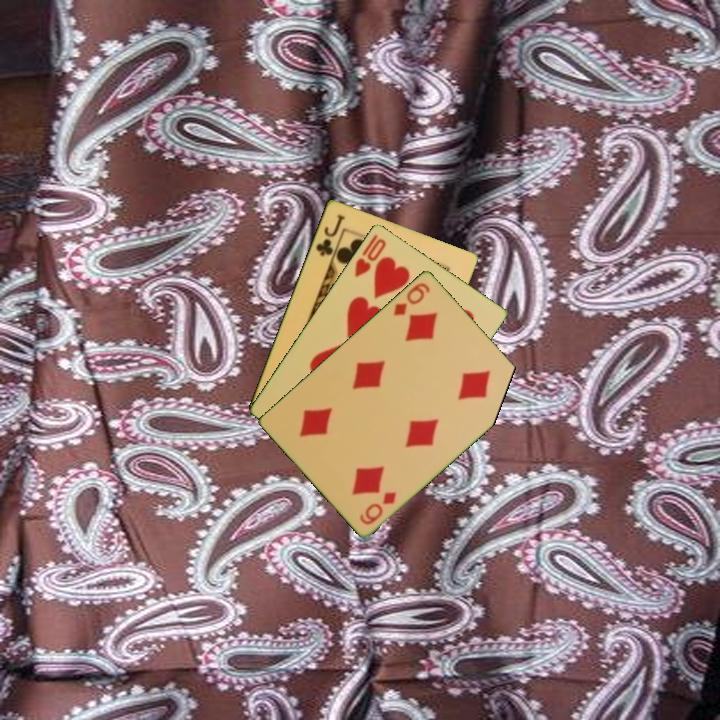10h: (351, 230, 389, 280)
6d: (356, 487, 400, 527), (390, 279, 433, 318)
Jc: (312, 210, 348, 259)
